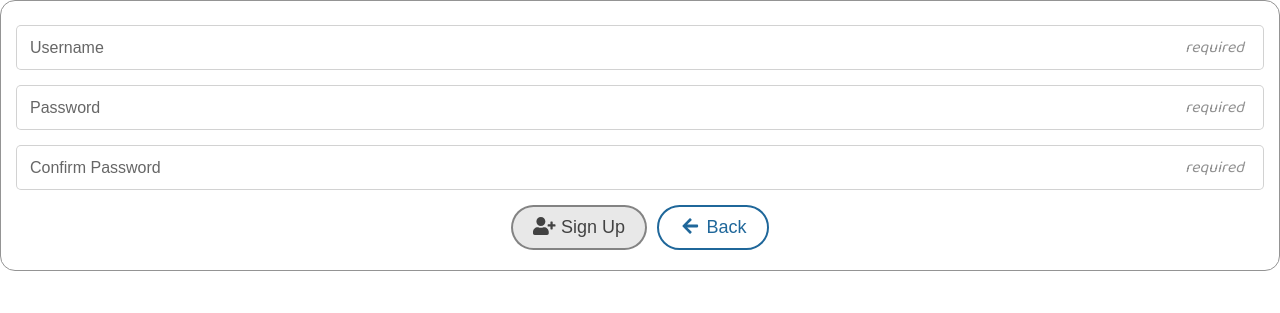
it: <SignUpForm /> › should render and error message if confirm and password input do not match
In the field with placeholder "Username": (640, 48) [16,25,1264,70], type "testUser"
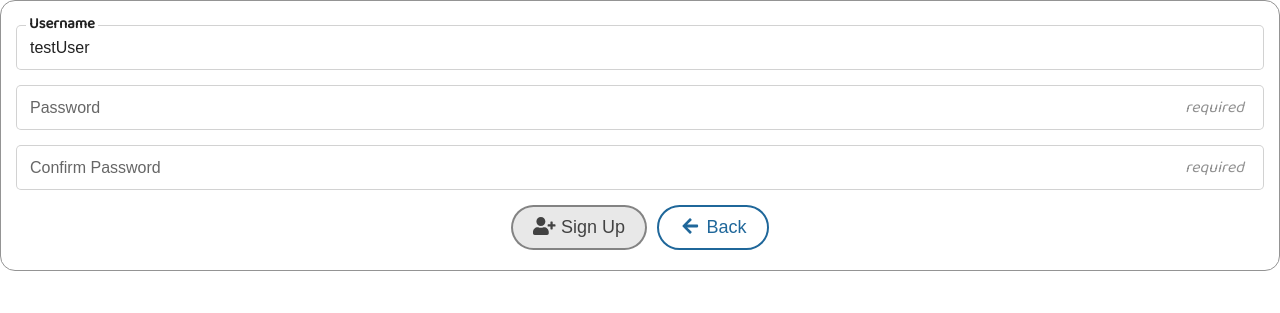
In the password field with placeholder "Password": (640, 108) [16,85,1264,130], type "Password1"
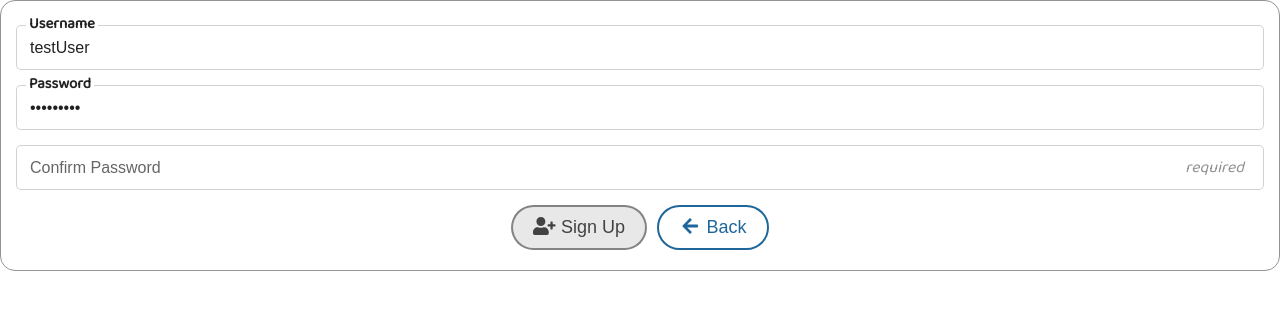
In the password field with placeholder "Confirm Password": (640, 168) [16,145,1264,190], type "password1"
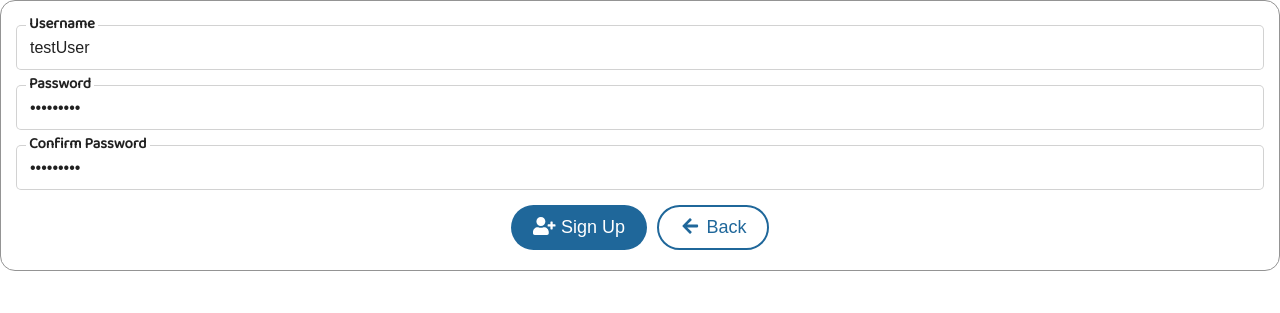
Click the button "Sign Up": (579, 228) [512,205,647,250]
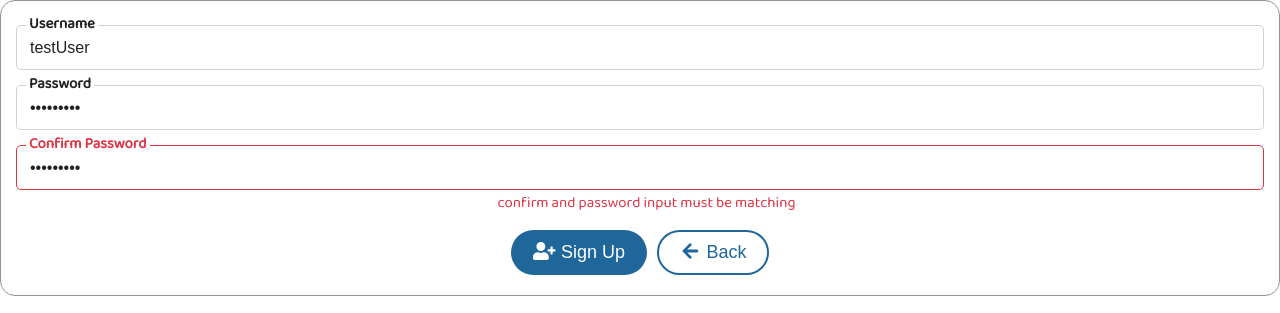
Result: the text "confirm and password input must be matching" is shown at [498,191,796,215]
